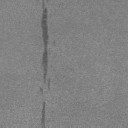red iron: (41, 0, 49, 83), (41, 102, 46, 128), (48, 79, 50, 87), (40, 88, 42, 92)
